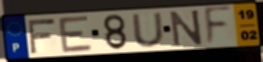8: (102, 14, 129, 51)
E: (56, 14, 95, 54)
F: (203, 4, 234, 48), (25, 17, 57, 55)
N: (168, 9, 205, 48)
U: (130, 11, 167, 49)
